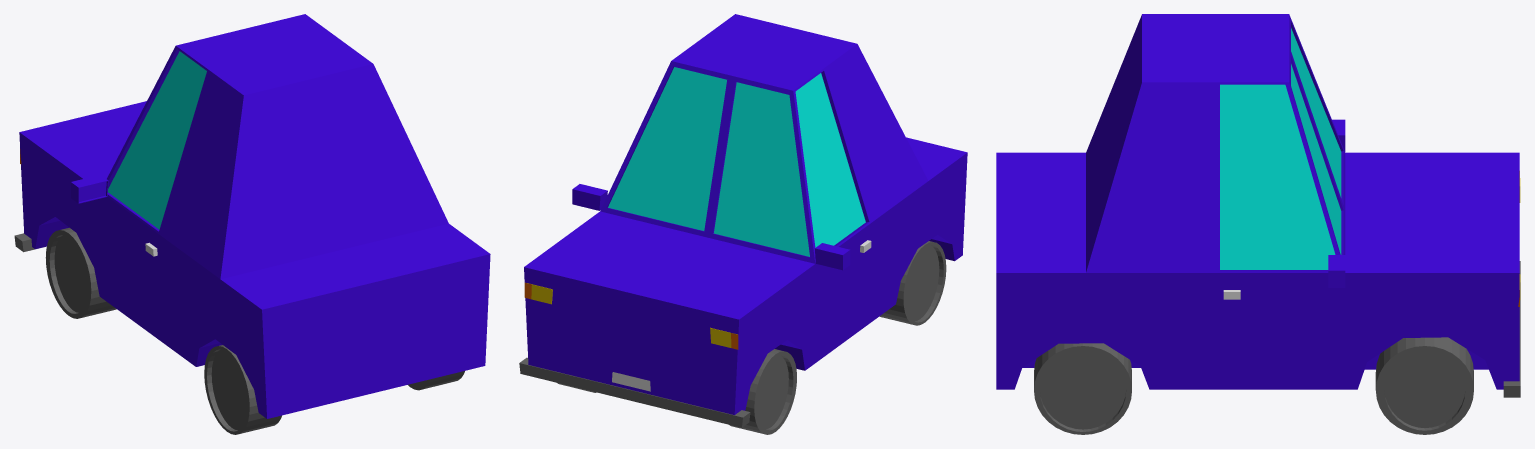
File: car-purple.fbx
The picture shows the model from 3 angles, left to right: view 1: azimuth 30°, elevation 25°; view 2: azimuth 150°, elevation 25°; view 3: azimuth 270°, elevation 25°; orthographic projection. The views are drawn at different scales.
Visible parts, largest first — view 1: Cube; view 2: Cube; view 3: Cube.
Boxes of the visible parts, x1=… form: Cube: x1=14, y1=14, x2=490, y2=434; Cube: x1=519, y1=14, x2=967, y2=434; Cube: x1=996, y1=14, x2=1520, y2=434.
Bounding box in the file's own units: 251 × 255 × 368.
